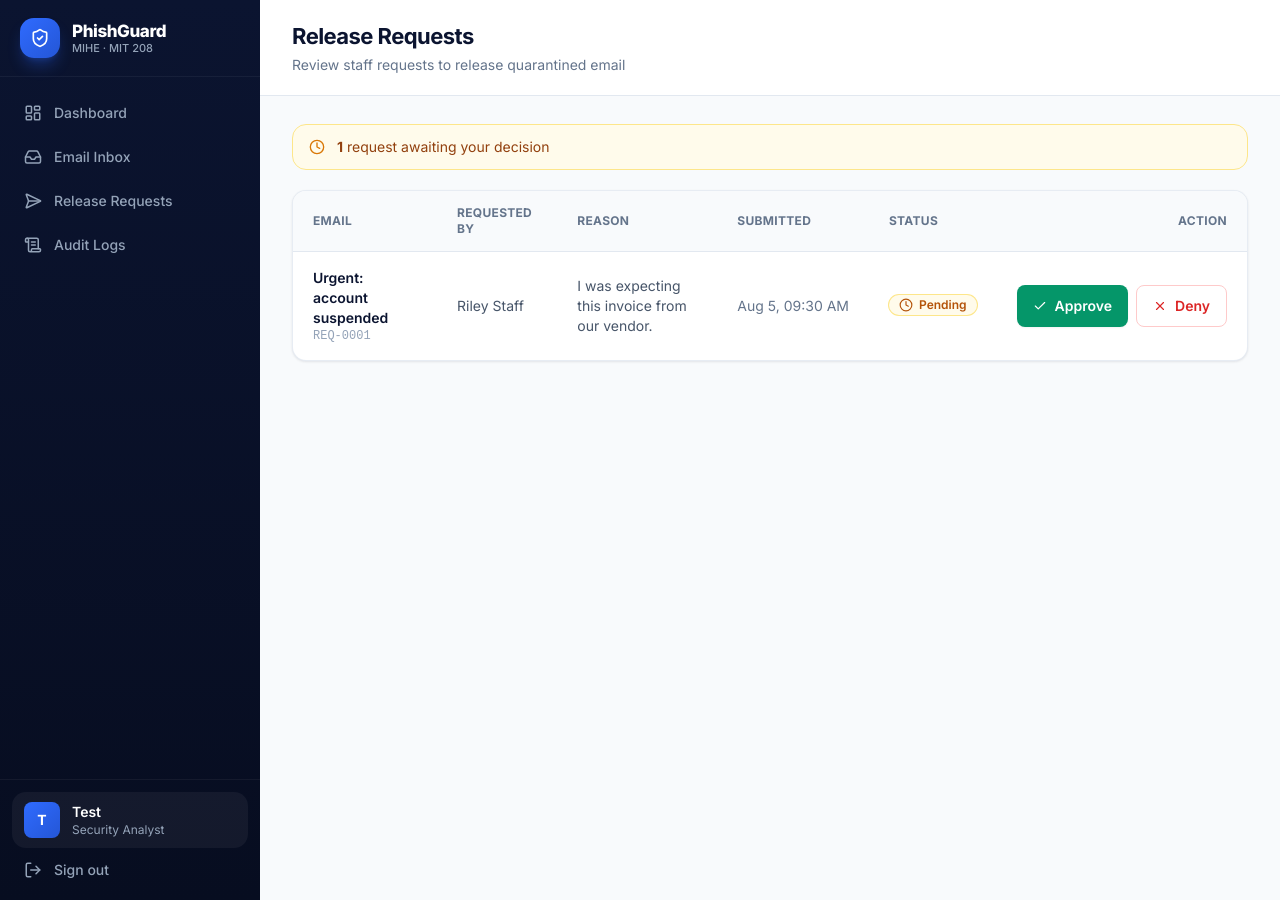
Scenario: ReleaseRequests › reports the server's conflict message when the request was already decided
The image size is (1280, 900).
Click the button "Deny": (1182, 306) [1136,285,1227,327]
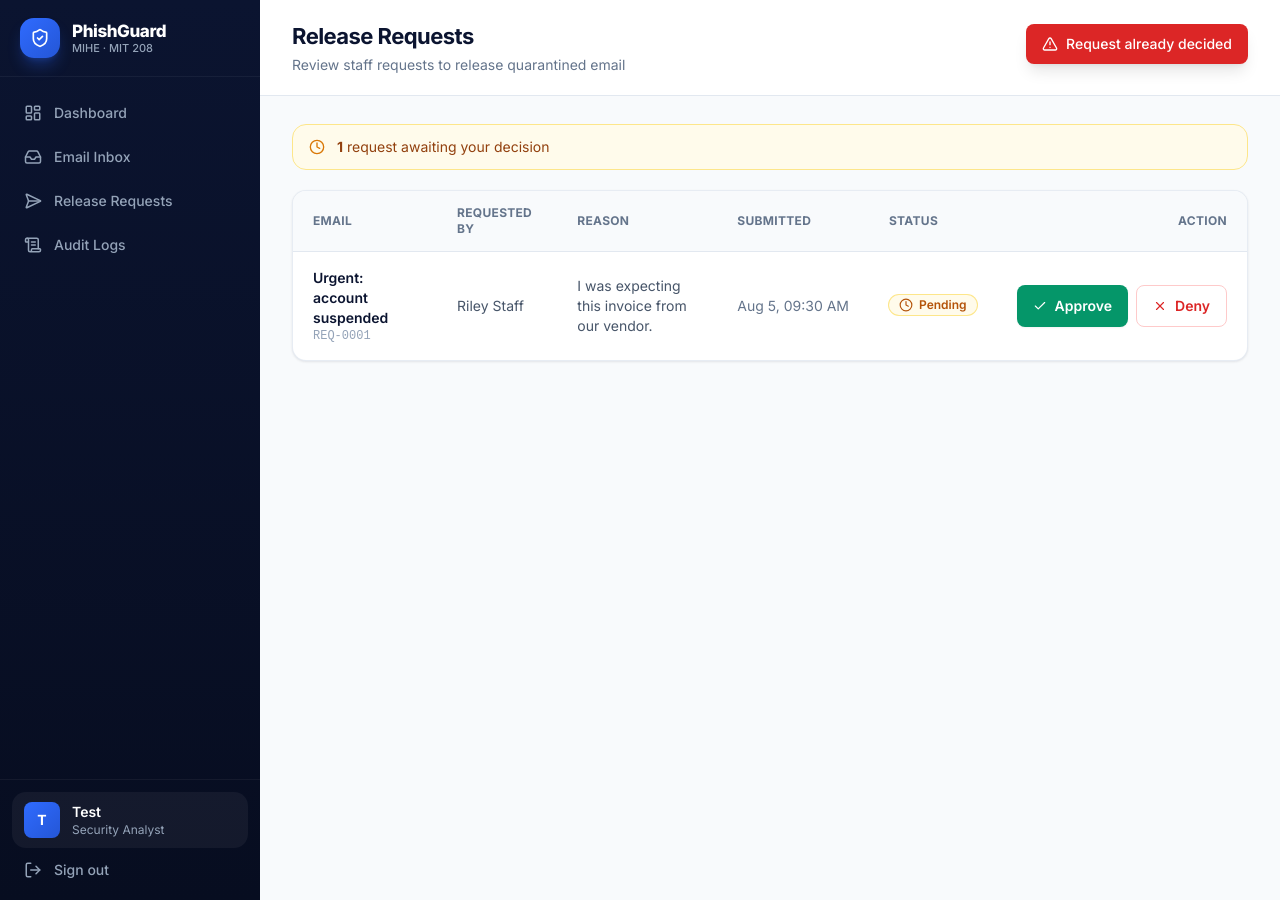
expect the text "Request already decided" is shown: met, box [1066,34,1232,54]
